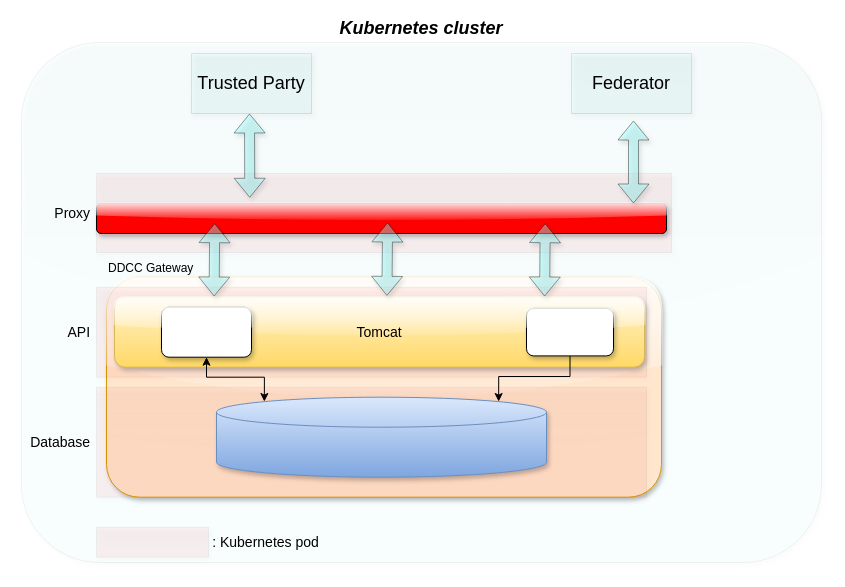
This 845x587 diagram has some shape labels left out. Each missing label, with the centre of its shape:
DDCC Gateway Rest API: the point at 207,333
Federator Rest API: the point at 571,333
JDBC Database: the point at 382,438
Load Balancer: the point at 382,219
